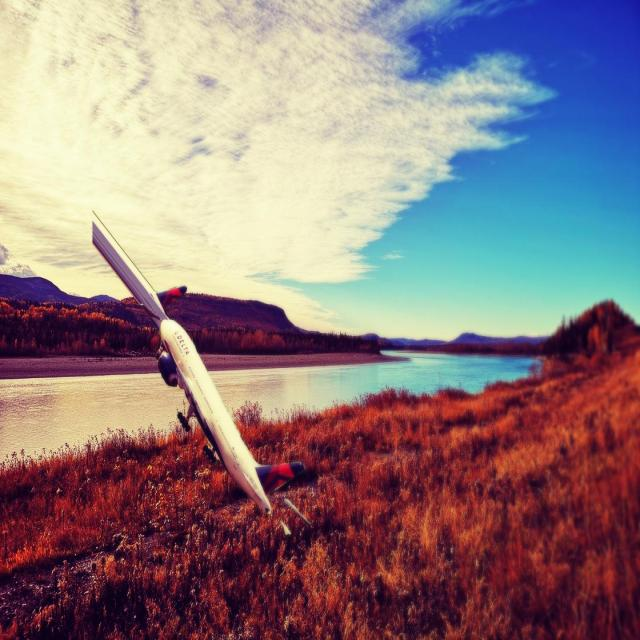airplane: (90, 210, 308, 520)
